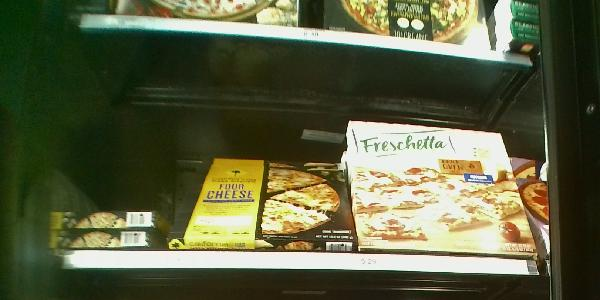pizza: (348, 113, 540, 262), (170, 130, 353, 262)
pizza1: (40, 210, 160, 230), (38, 231, 153, 248)
